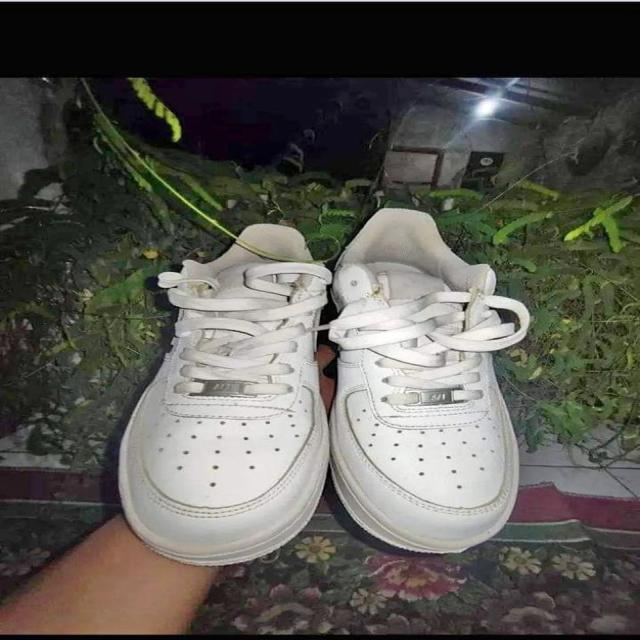nike fake air force: (119, 224, 338, 568), (326, 208, 522, 558)
